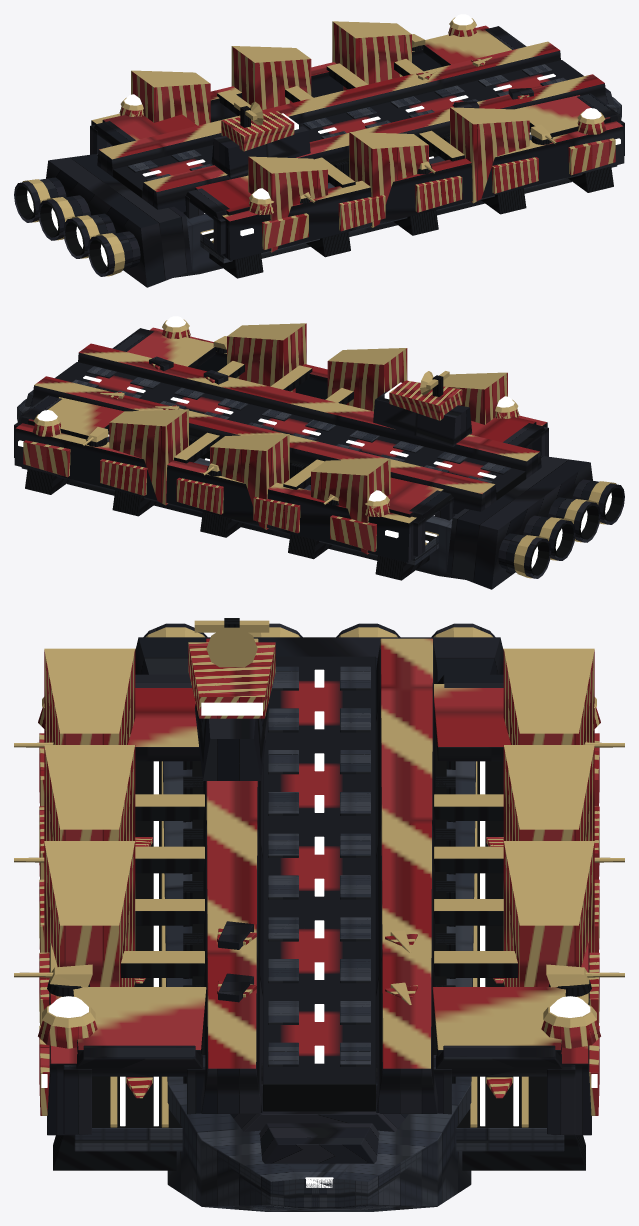
File: carrier.glb
3 views of the same model, one above another, from view 1: azimuth 30°, elevation 25°; view 2: azimuth 150°, elevation 25°; view 3: azimuth 270°, elevation 25° (orthographic). The views are drawn at different scales.
Visible parts, largest first — view 1: hull_body, engine_block, sensor_island, shield_domes, weapon_turrets; view 2: hull_body, engine_block, sensor_island, shield_domes, weapon_turrets; view 3: hull_body, sensor_island, engine_block, shield_domes, weapon_turrets.
Part boxes in pixels (bbox=[...]): hull_body: bbox=[90, 21, 624, 278]; engine_block: bbox=[14, 153, 192, 287]; sensor_island: bbox=[211, 101, 310, 177]; shield_domes: bbox=[119, 14, 606, 214]; weapon_turrets: bbox=[300, 34, 556, 203]; hull_body: bbox=[14, 323, 548, 580]; engine_block: bbox=[446, 455, 624, 589]; sensor_island: bbox=[373, 371, 472, 446]; shield_domes: bbox=[32, 316, 519, 516]; weapon_turrets: bbox=[82, 336, 338, 505]; hull_body: bbox=[39, 638, 599, 1211]; sensor_island: bbox=[188, 618, 275, 780]; engine_block: bbox=[135, 623, 503, 681]; shield_domes: bbox=[38, 697, 600, 1048]; weapon_turrets: bbox=[14, 741, 624, 996].
Bounding box in the file's own units: 55 × 13.7 × 27.19.
Materials: 1 (1 with a texture image).
